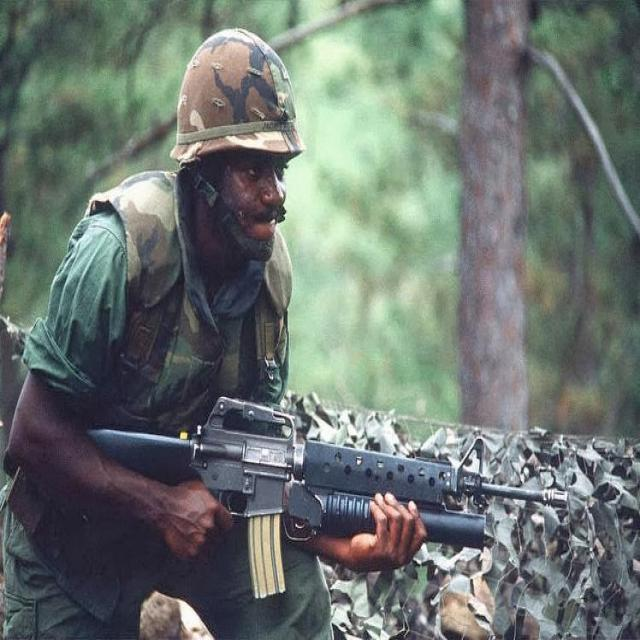m16: (55, 345, 596, 616)
